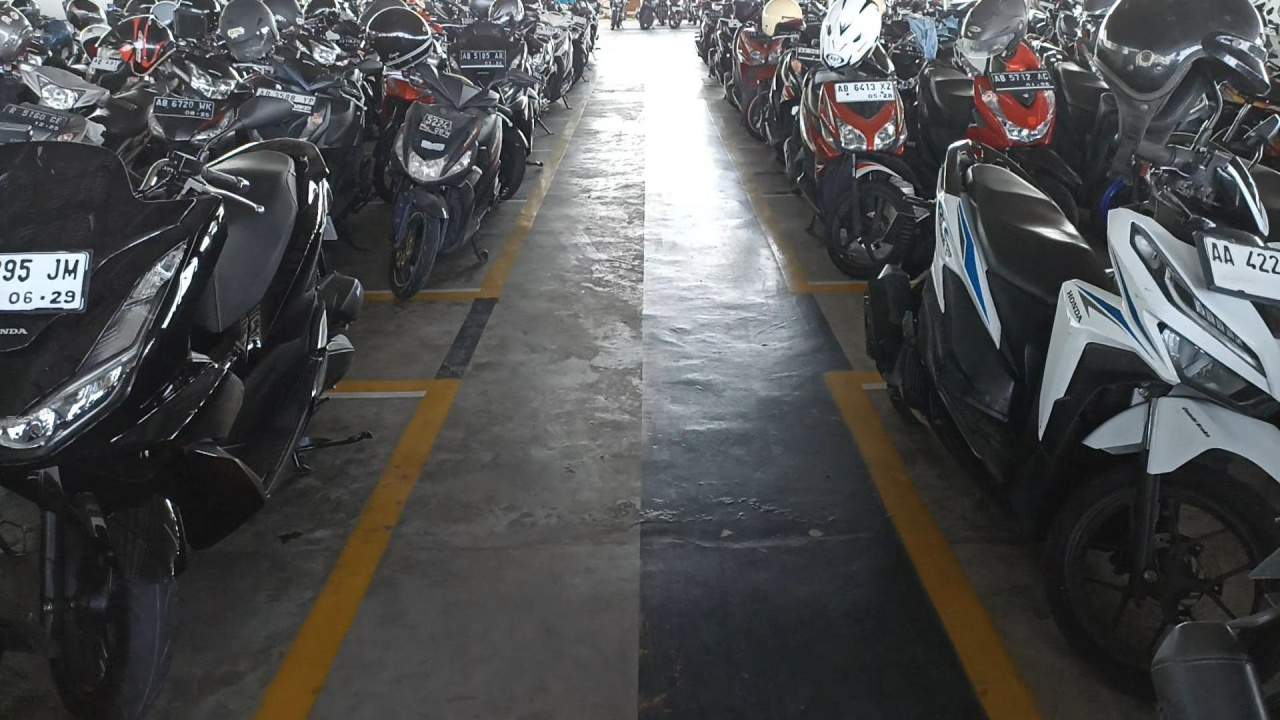plate: (0, 104, 67, 133), (988, 69, 1056, 91), (835, 80, 896, 102), (152, 98, 213, 119), (460, 50, 505, 68)
